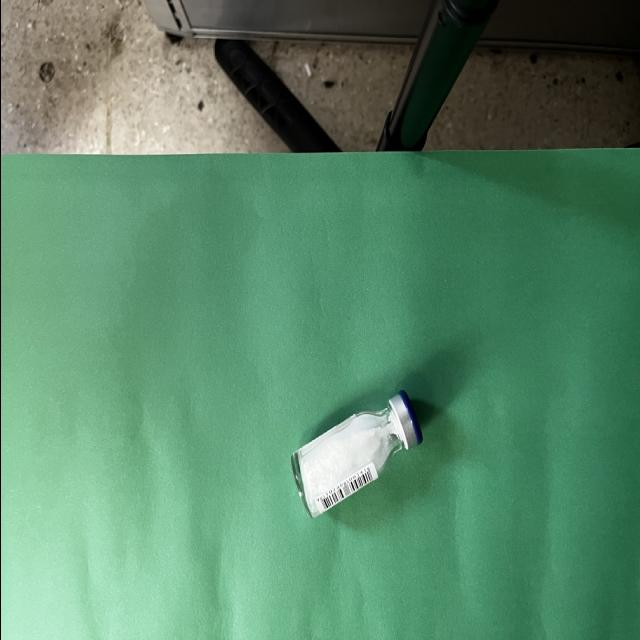Vials: (291, 391, 421, 517)
